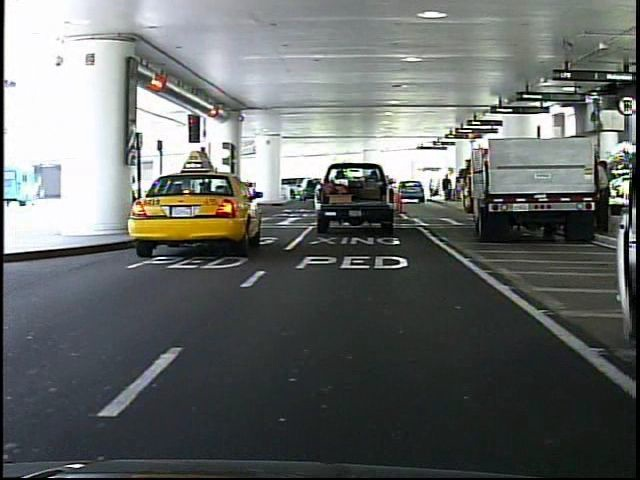person: (196, 167, 216, 215)
